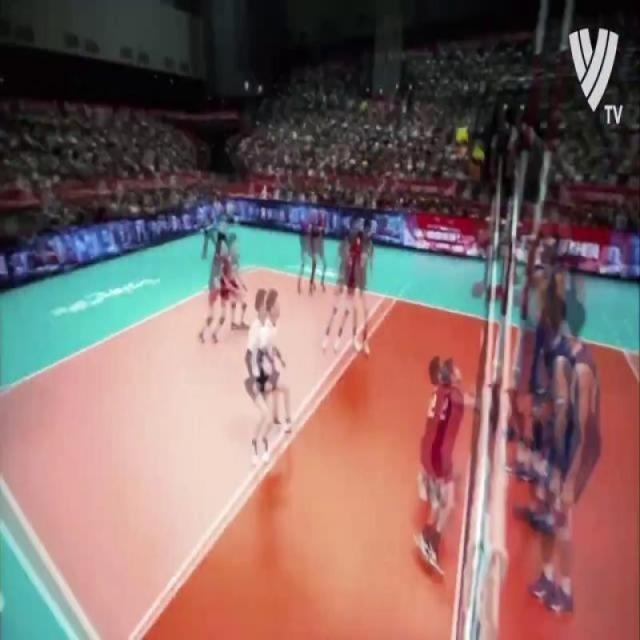volleyball: (453, 125, 472, 150), (470, 144, 487, 164)
